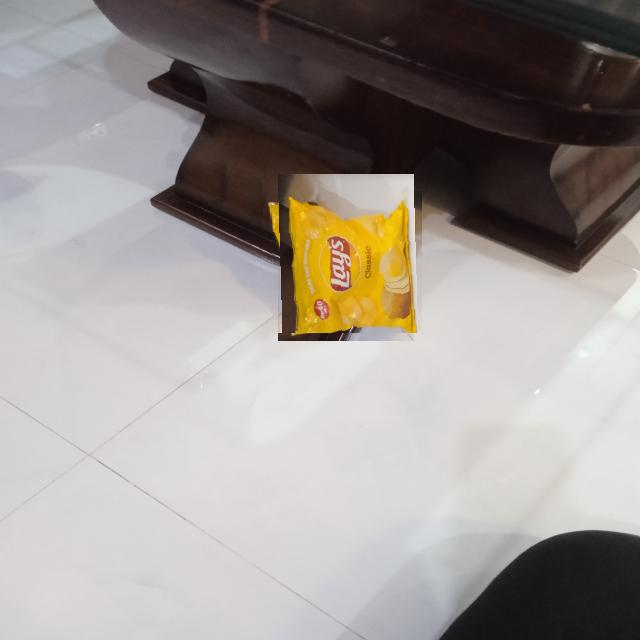Plastic: (270, 181, 422, 333)
